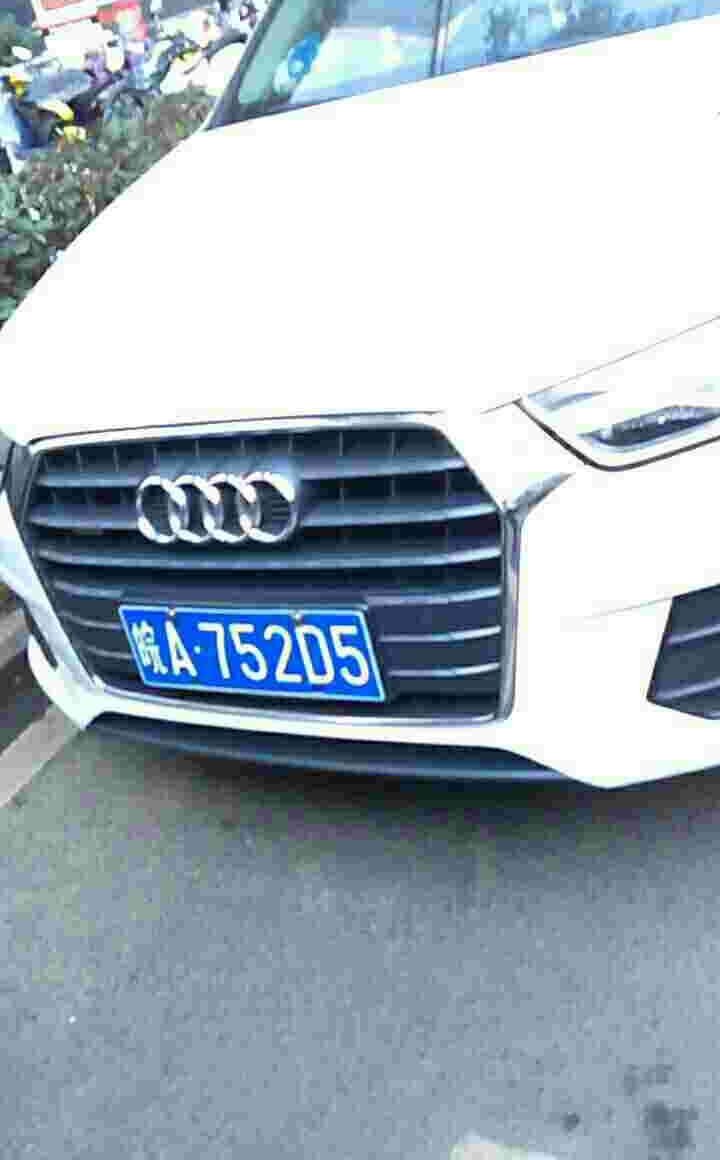plate: (110, 600, 390, 703)
